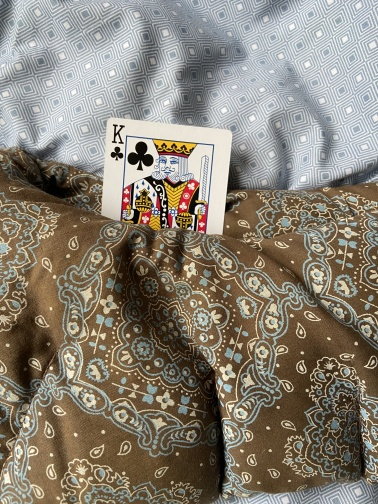king: (93, 116, 234, 298)
